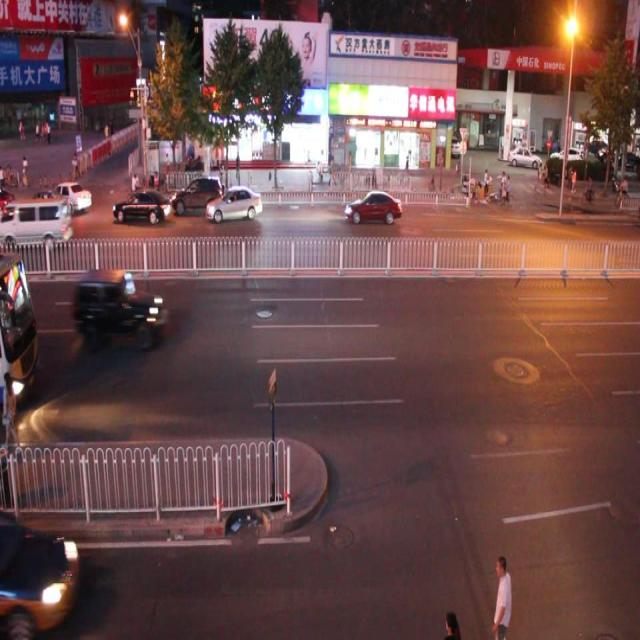car: (1, 516, 78, 632), (72, 266, 165, 350), (111, 188, 172, 229), (205, 184, 263, 223), (170, 174, 224, 213), (19, 190, 74, 228), (344, 189, 400, 225), (50, 178, 92, 214)
truck: (1, 197, 72, 252)
